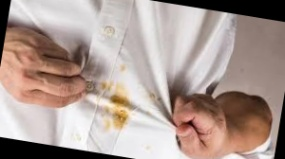oil: (91, 81, 139, 141), (142, 90, 163, 117), (114, 64, 128, 75), (143, 140, 154, 151)
